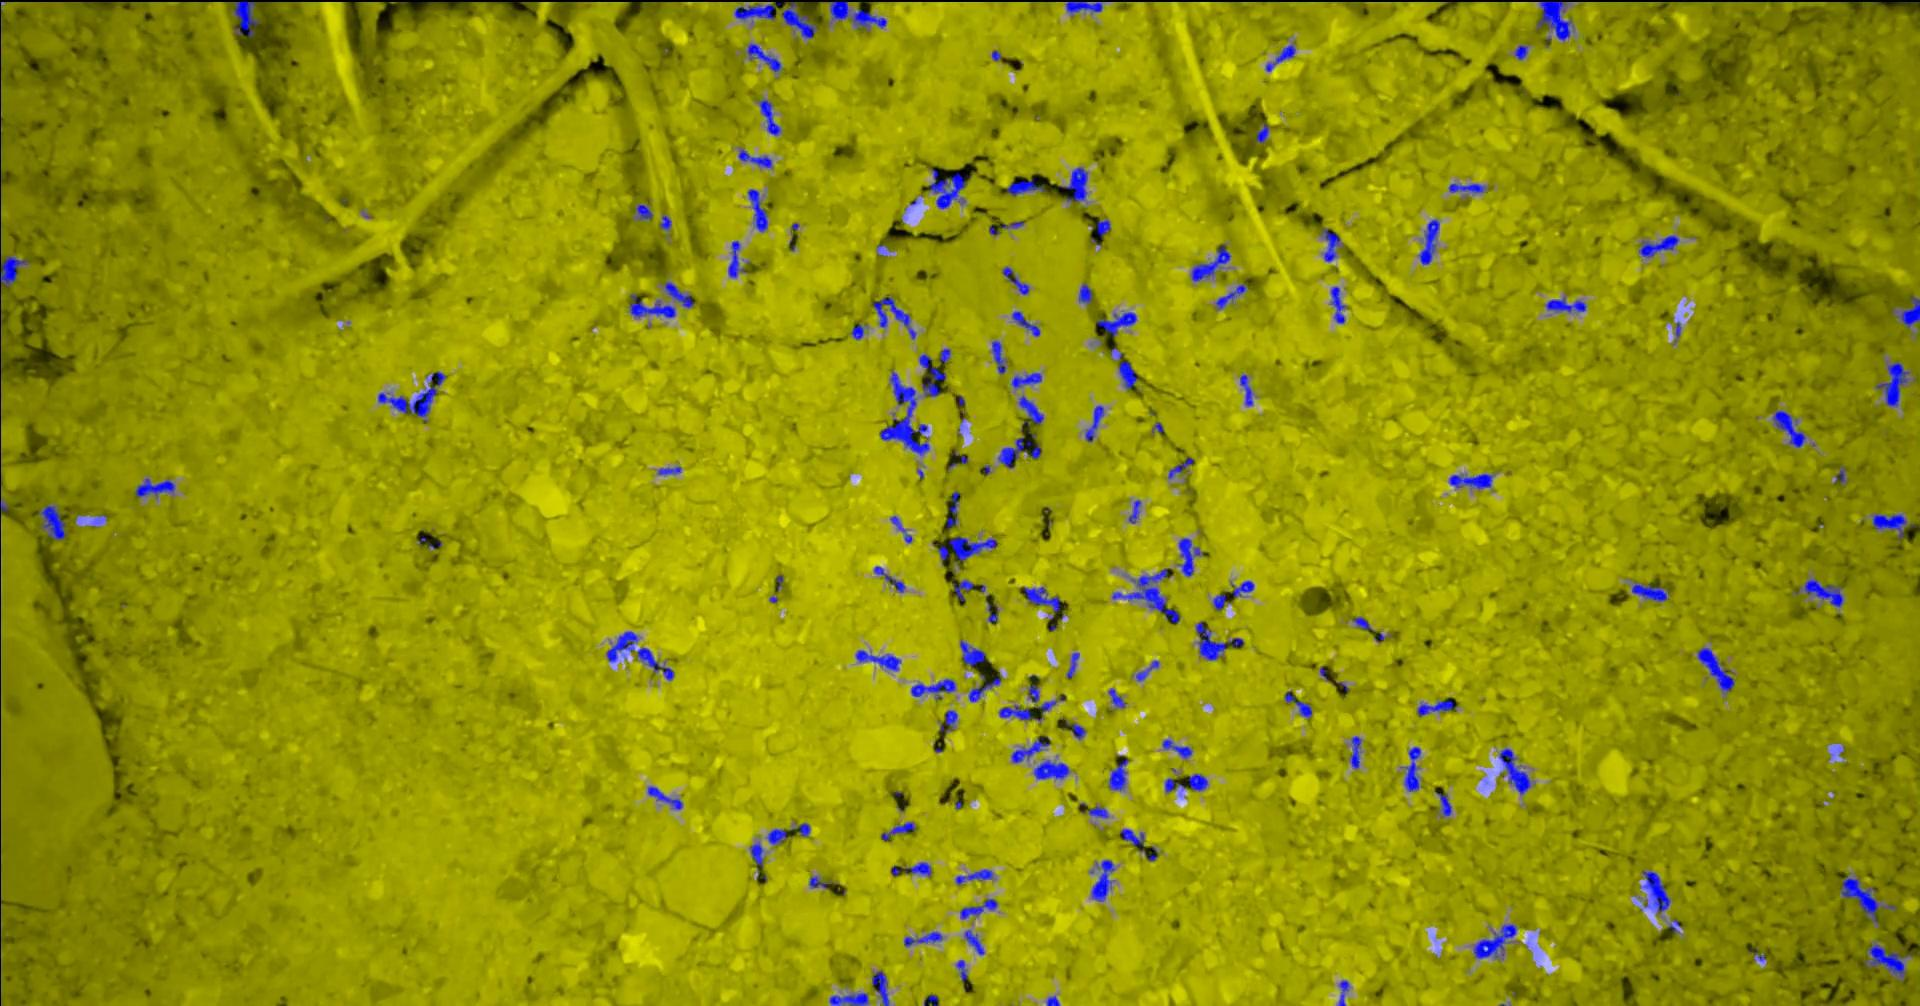ant: (1111, 568, 1178, 622), (377, 371, 444, 420), (1840, 876, 1895, 923), (1195, 621, 1243, 661), (1863, 942, 1911, 981), (872, 296, 916, 338), (1697, 647, 1735, 694), (828, 0, 886, 29), (998, 695, 1064, 720), (928, 168, 968, 208), (1876, 361, 1909, 406), (1191, 243, 1230, 281), (937, 536, 996, 561), (1473, 923, 1516, 958), (1537, 0, 1573, 39), (997, 434, 1040, 467), (1498, 748, 1530, 793), (781, 0, 817, 38), (1801, 578, 1843, 607), (1771, 410, 1804, 447), (636, 647, 673, 680), (1641, 870, 1669, 912), (629, 293, 676, 318), (1023, 586, 1064, 612), (919, 354, 945, 396), (1096, 311, 1137, 337), (0, 255, 28, 292), (1011, 735, 1049, 762), (604, 631, 637, 662), (747, 43, 781, 71), (1059, 166, 1087, 201), (1091, 859, 1114, 901), (232, 0, 258, 37), (1418, 218, 1439, 264), (855, 649, 900, 669), (1399, 746, 1420, 791), (1178, 537, 1203, 575), (910, 678, 955, 699), (38, 506, 65, 539), (747, 188, 767, 231), (734, 0, 780, 19), (1870, 513, 1905, 539), (1638, 235, 1677, 257), (1164, 774, 1208, 793), (959, 898, 997, 920), (1265, 44, 1295, 71), (663, 281, 693, 307), (872, 567, 904, 592), (968, 676, 999, 701), (648, 786, 682, 809), (1018, 394, 1043, 426), (135, 478, 174, 497), (1002, 265, 1029, 293), (1215, 283, 1244, 309), (1448, 473, 1492, 489), (759, 99, 780, 135), (959, 639, 985, 666), (1011, 311, 1039, 337), (1417, 699, 1457, 716), (1897, 295, 1919, 326), (1084, 405, 1103, 441), (1284, 691, 1310, 716), (1032, 760, 1068, 779), (880, 821, 916, 840), (1630, 583, 1666, 601), (1006, 179, 1044, 196), (728, 240, 744, 277), (1109, 758, 1128, 790), (889, 514, 910, 542), (903, 931, 942, 946), (738, 149, 771, 166), (1321, 227, 1338, 260), (1119, 828, 1144, 851), (1545, 297, 1586, 311), (871, 970, 888, 1005), (1330, 286, 1345, 323), (955, 869, 992, 884), (1117, 359, 1137, 389), (1162, 739, 1191, 758), (890, 862, 931, 875), (990, 340, 1006, 373), (829, 992, 869, 1005), (1168, 457, 1192, 478), (964, 930, 984, 954), (1010, 372, 1041, 387), (946, 492, 959, 527), (952, 579, 973, 601), (1135, 661, 1158, 680), (1065, 0, 1102, 11), (938, 710, 957, 732), (1063, 720, 1084, 739), (1079, 803, 1109, 817), (1239, 373, 1252, 405), (1435, 791, 1451, 815), (1230, 580, 1253, 597), (1350, 735, 1361, 768), (1065, 652, 1079, 677), (1091, 218, 1110, 236), (1448, 183, 1484, 192), (1109, 688, 1125, 708), (1128, 499, 1140, 523), (767, 828, 786, 843), (808, 875, 830, 888), (1255, 122, 1269, 142), (1352, 617, 1373, 631), (750, 842, 762, 866), (1337, 981, 1349, 1005), (1078, 283, 1091, 304), (1211, 594, 1228, 610), (634, 205, 651, 218), (791, 822, 809, 836), (985, 601, 997, 622), (956, 959, 968, 981), (850, 324, 863, 339), (1514, 44, 1528, 58), (1027, 683, 1037, 702), (1834, 465, 1845, 481), (657, 466, 681, 474), (659, 215, 670, 230), (938, 348, 950, 362), (923, 995, 938, 1005), (1046, 995, 1059, 1005)
